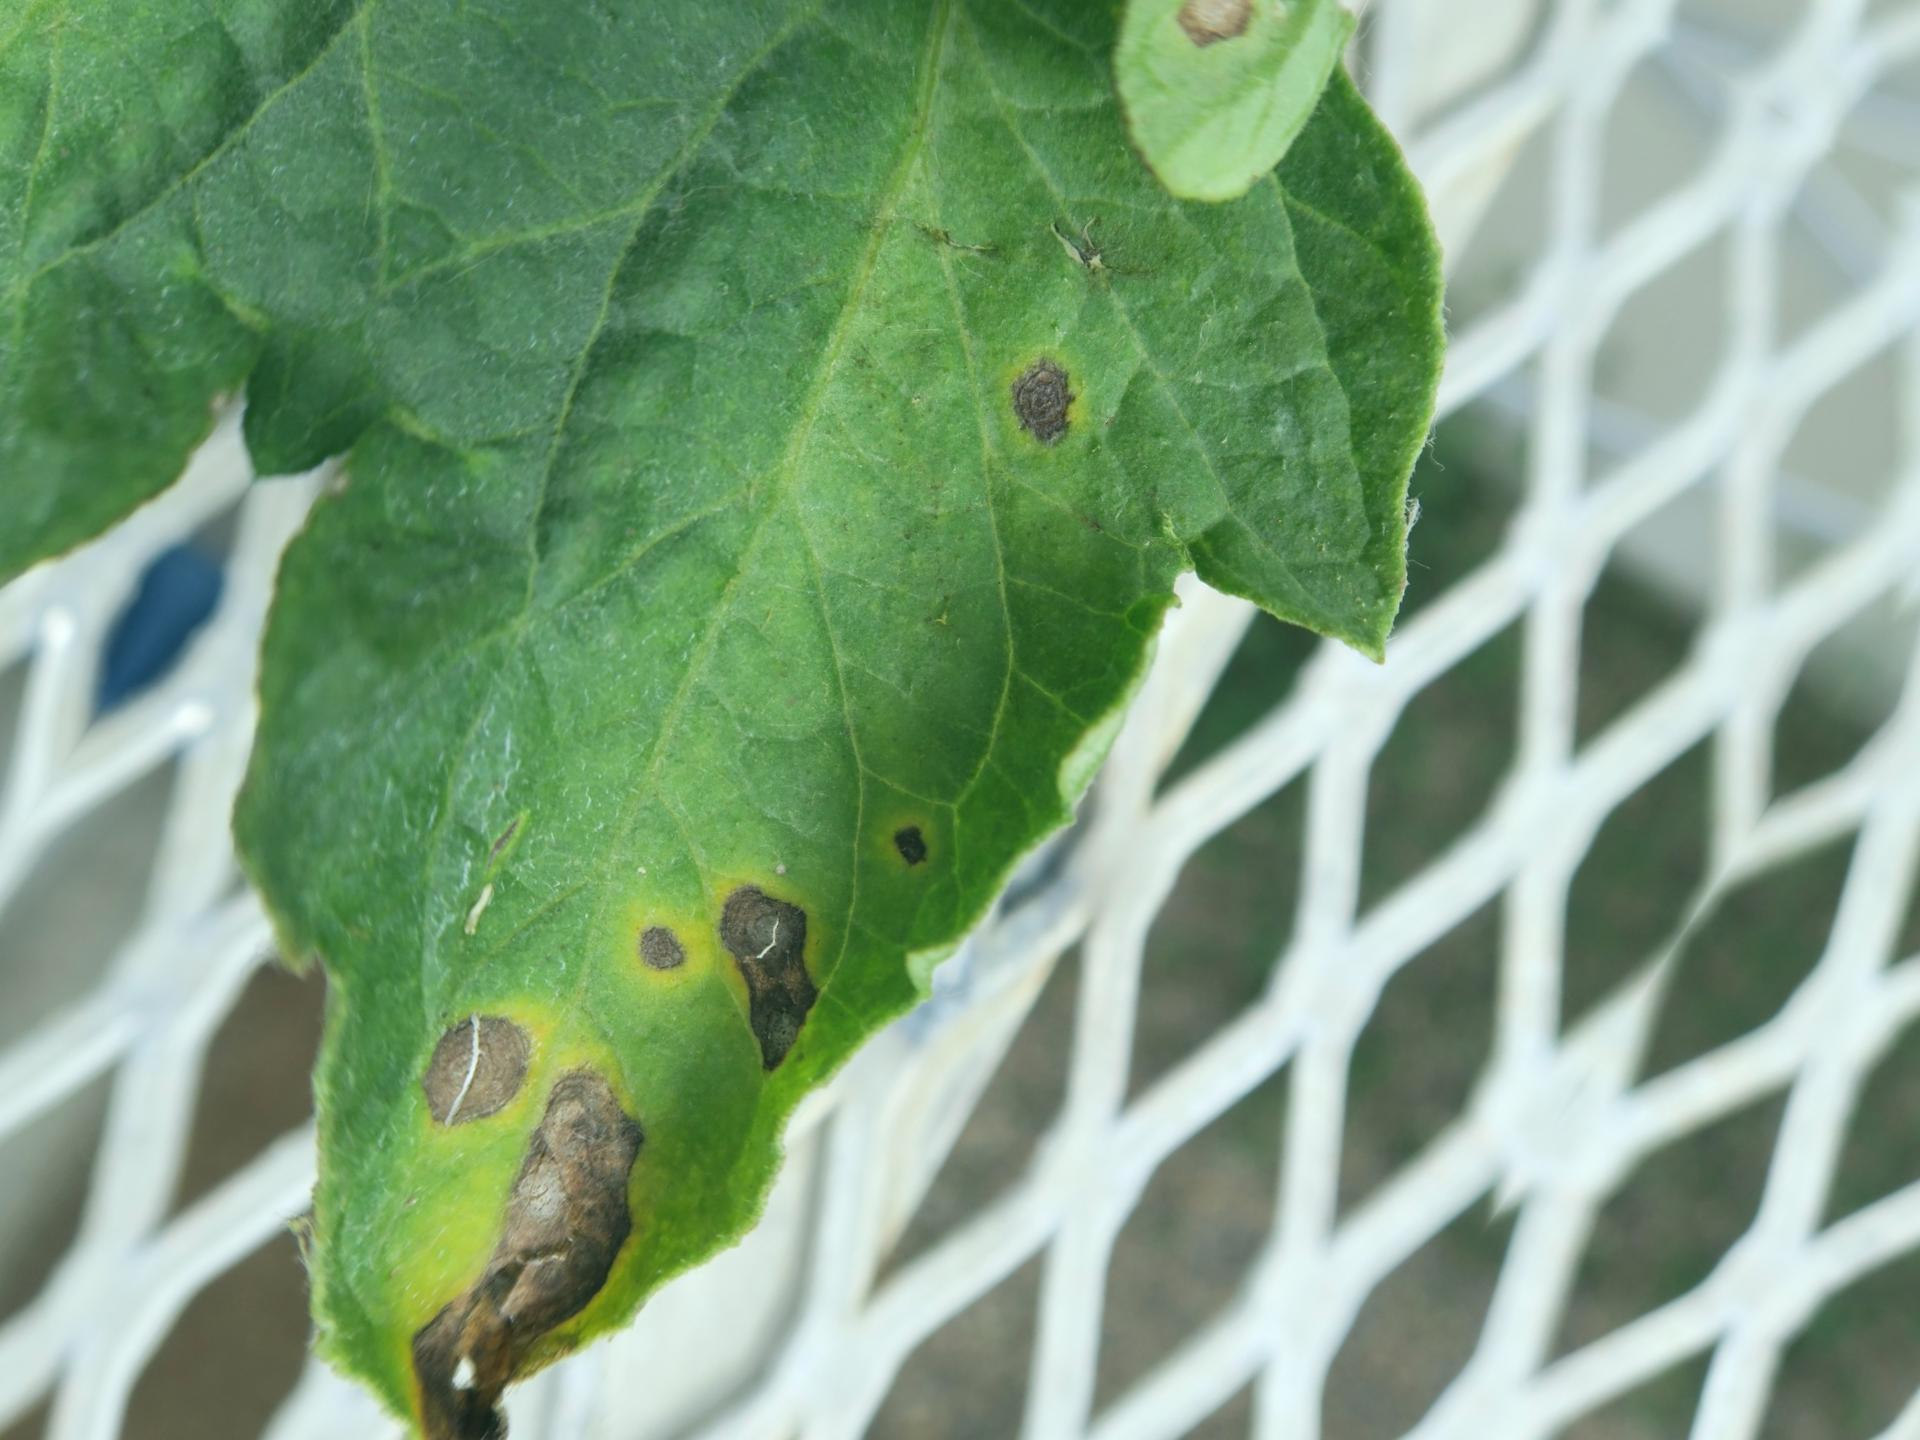Tomato Early blight leaf: (0, 0, 1740, 1440)
